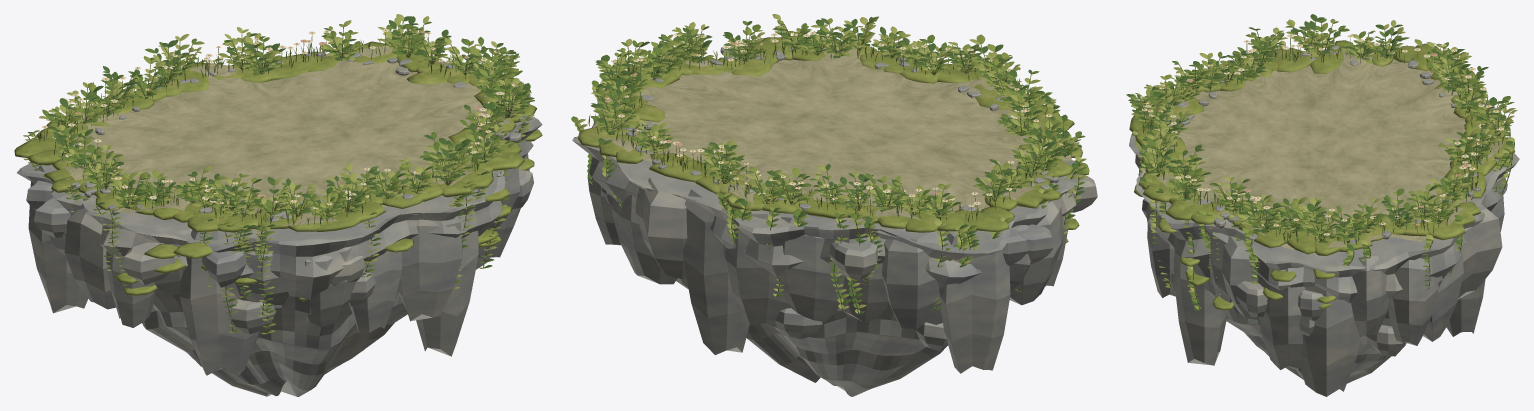
Rendered from shiguang-island-only.glb.
The picture shows the model from 3 angles, left to right: view 1: azimuth 30°, elevation 25°; view 2: azimuth 150°, elevation 25°; view 3: azimuth 270°, elevation 25°; orthographic projection. The views are drawn at different scales.
Parts seen in each view (by area): view 1: 01_Fractured_Cliff_and_Stones, 02_Usable_Top_Surface, 03_Moss_Ledges, 04_Leaves_3, 04_Leaves_2, 04_Leaves_0, 04_Leaves_1, 05_Vines_and_Grass_Stems, 06_Ivory_Petals; view 2: 01_Fractured_Cliff_and_Stones, 02_Usable_Top_Surface, 03_Moss_Ledges, 04_Leaves_0, 04_Leaves_2, 04_Leaves_3, 04_Leaves_1, 05_Vines_and_Grass_Stems, 06_Ivory_Petals; view 3: 01_Fractured_Cliff_and_Stones, 02_Usable_Top_Surface, 03_Moss_Ledges, 04_Leaves_0, 04_Leaves_3, 04_Leaves_2, 04_Leaves_1, 05_Vines_and_Grass_Stems, 06_Ivory_Petals.
Part boxes in pixels (x1=…): 01_Fractured_Cliff_and_Stones: x1=17, y1=51, x2=542, y2=396; 02_Usable_Top_Surface: x1=63, y1=46, x2=516, y2=226; 03_Moss_Ledges: x1=14, y1=41, x2=542, y2=301; 04_Leaves_3: x1=25, y1=14, x2=534, y2=320; 04_Leaves_2: x1=20, y1=24, x2=530, y2=334; 04_Leaves_0: x1=28, y1=16, x2=534, y2=319; 04_Leaves_1: x1=22, y1=21, x2=534, y2=331; 05_Vines_and_Grass_Stems: x1=27, y1=21, x2=525, y2=332; 06_Ivory_Petals: x1=42, y1=28, x2=518, y2=208; 01_Fractured_Cliff_and_Stones: x1=572, y1=47, x2=1097, y2=396; 02_Usable_Top_Surface: x1=593, y1=46, x2=1071, y2=220; 03_Moss_Ledges: x1=578, y1=37, x2=1089, y2=242; 04_Leaves_0: x1=587, y1=17, x2=1084, y2=314; 04_Leaves_2: x1=574, y1=18, x2=1087, y2=303; 04_Leaves_3: x1=576, y1=14, x2=1087, y2=313; 04_Leaves_1: x1=571, y1=16, x2=1086, y2=309; 05_Vines_and_Grass_Stems: x1=576, y1=23, x2=1079, y2=314; 06_Ivory_Petals: x1=597, y1=23, x2=1062, y2=206; 01_Fractured_Cliff_and_Stones: x1=1129, y1=45, x2=1519, y2=396; 02_Usable_Top_Surface: x1=1142, y1=48, x2=1503, y2=249; 03_Moss_Ledges: x1=1129, y1=40, x2=1515, y2=310; 04_Leaves_0: x1=1126, y1=14, x2=1514, y2=310; 04_Leaves_3: x1=1130, y1=19, x2=1517, y2=294; 04_Leaves_2: x1=1130, y1=19, x2=1513, y2=309; 04_Leaves_1: x1=1129, y1=18, x2=1514, y2=303; 05_Vines_and_Grass_Stems: x1=1137, y1=21, x2=1514, y2=310; 06_Ivory_Petals: x1=1141, y1=34, x2=1504, y2=235.
Bounding box in the file's own units: 10.16 × 5.89 × 7.7.
11 materials, 3 textured.
